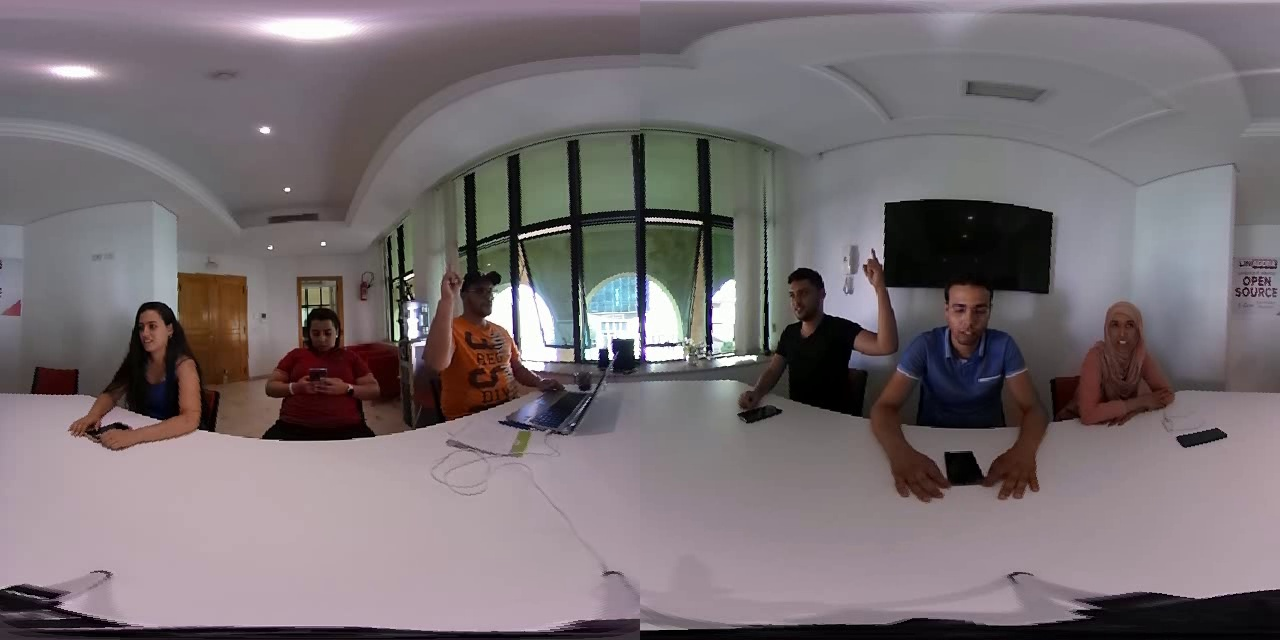person: (892, 261, 1053, 508), (723, 248, 899, 428), (60, 292, 216, 459), (413, 258, 559, 422), (259, 301, 387, 440), (1060, 292, 1235, 361)
speaking: (416, 255, 475, 379), (840, 250, 895, 369)
